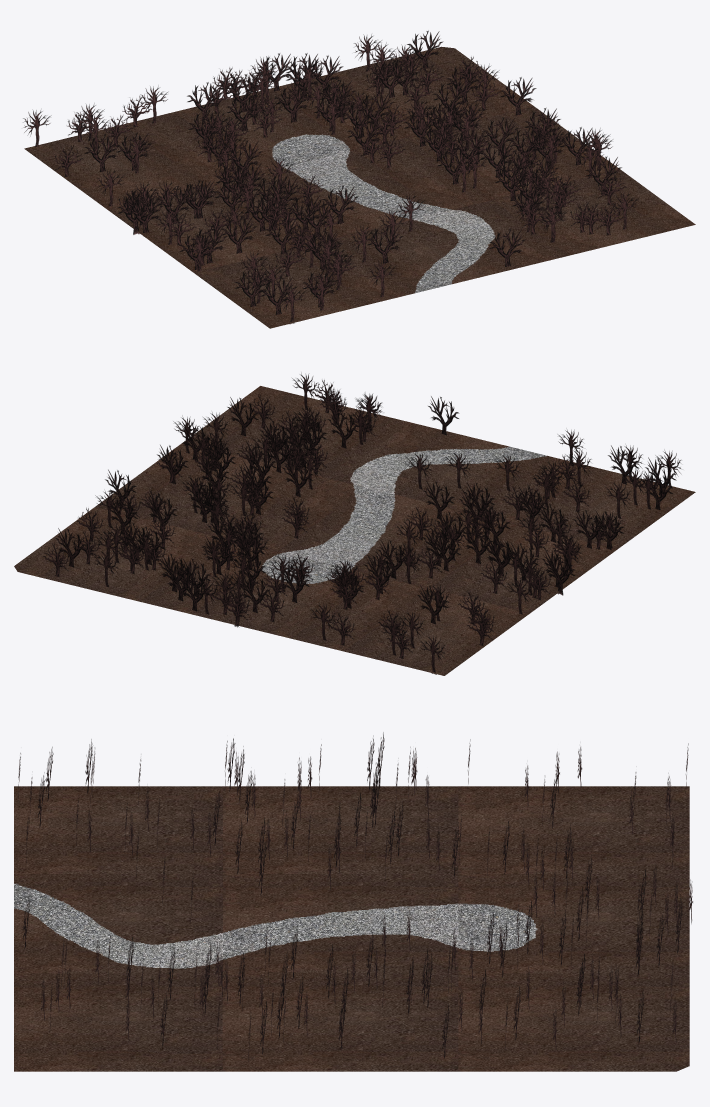
File: cabin_environment.glb
3 renders of one model, top to bottom at view 1: azimuth 30°, elevation 25°; view 2: azimuth 150°, elevation 25°; view 3: azimuth 270°, elevation 25°, orthographic. The views are drawn at different scales.
Parts seen in each view (by area): view 1: Plane, GN Instance (×3); view 2: Plane; view 3: Plane.
Part boxes in pixels (left/top/right/bottom): Plane: left=24, top=46, right=695, bottom=328; GN Instance (×3): left=127, top=59, right=525, bottom=266; Plane: left=14, top=386, right=695, bottom=675; Plane: left=14, top=786, right=689, bottom=1071.
Bounding box in the file's own units: 80.09 × 8.57 × 74.71.
Materials: 5 (5 with a texture image).
